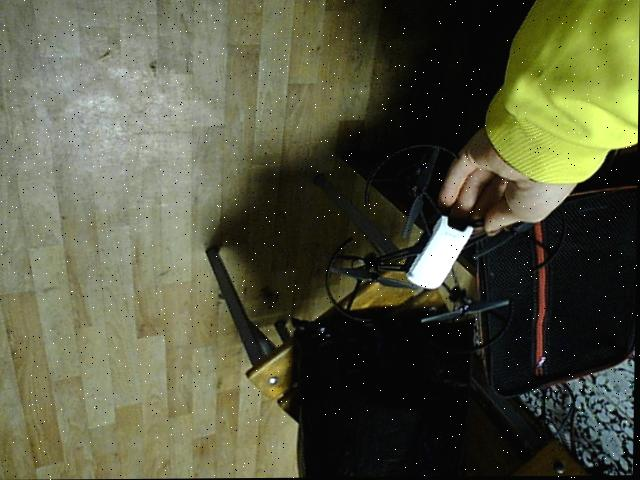drone: (301, 128, 573, 361)
